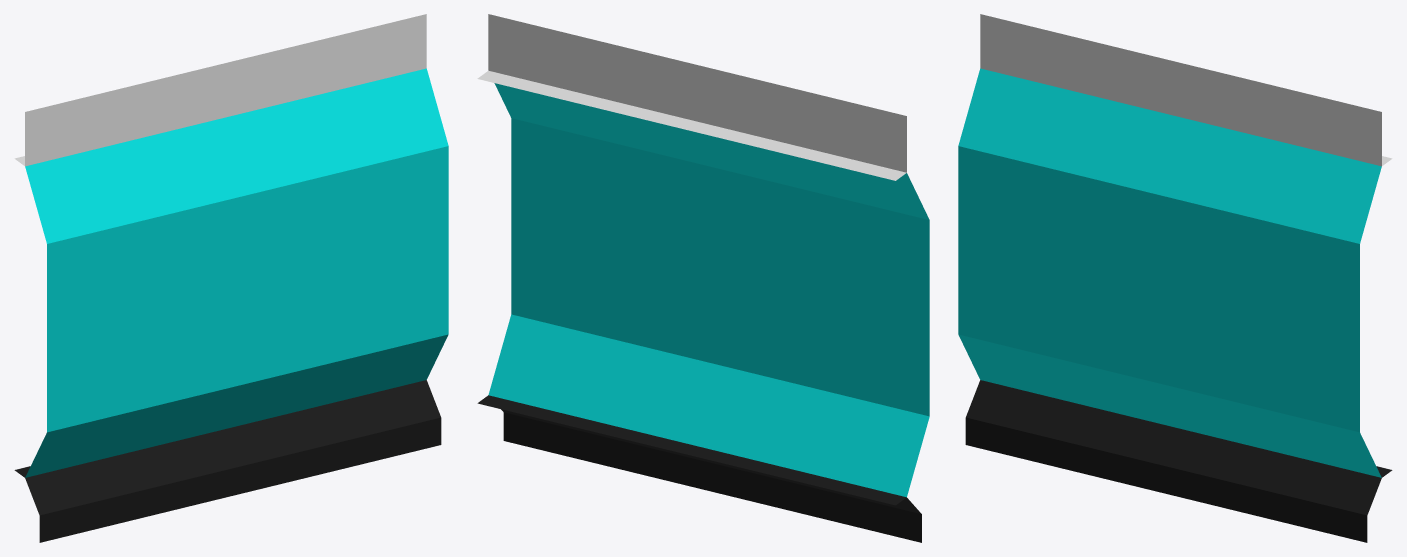
Rendered from base_window_straight_02.FBX.
3 views of the same model, side by side, from view 1: azimuth 30°, elevation 25°; view 2: azimuth 150°, elevation 25°; view 3: azimuth 330°, elevation 25° (orthographic). The views are drawn at different scales.
Parts seen in each view (by area): view 1: base_window_straight_02; view 2: base_window_straight_02; view 3: base_window_straight_02.
Part boxes in pixels (<box>): base_window_straight_02: <box>14,14,448,542</box>; base_window_straight_02: <box>477,14,929,542</box>; base_window_straight_02: <box>958,14,1392,542</box>.
Size of the model in its own units: 400 by 400 by 56.34.
